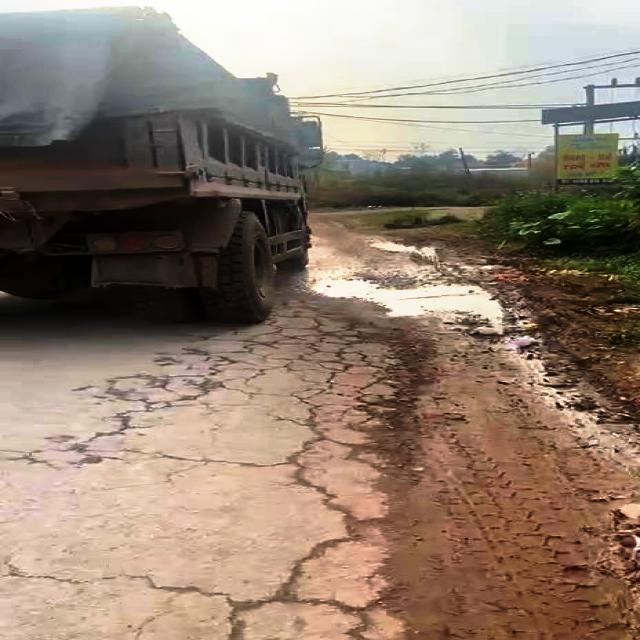pothole: (302, 277, 513, 328)
